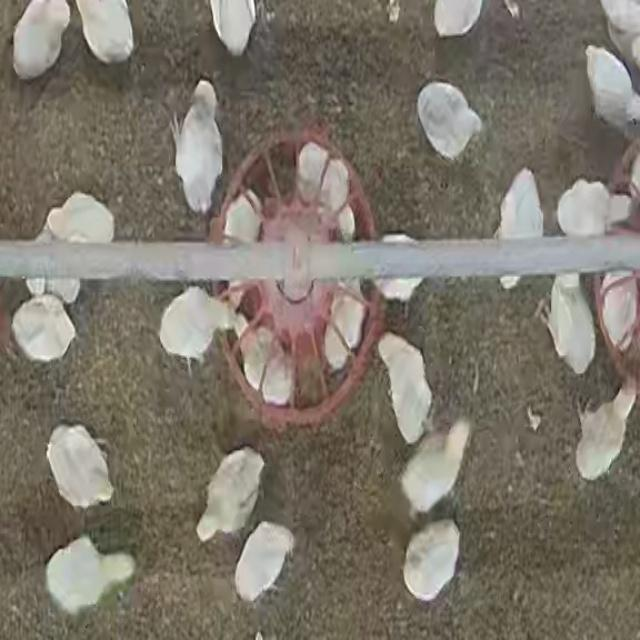chicken: (44, 534, 134, 618), (171, 77, 223, 210), (401, 415, 470, 514), (197, 446, 265, 542), (575, 377, 637, 481), (378, 332, 433, 446), (495, 168, 545, 290), (46, 422, 114, 510), (160, 281, 236, 359), (584, 43, 640, 140), (542, 277, 596, 375), (418, 82, 482, 159), (234, 522, 294, 602), (23, 230, 84, 308), (402, 519, 460, 600), (11, 293, 77, 364), (12, 1, 69, 80), (239, 321, 290, 407), (72, 1, 136, 67), (44, 190, 116, 246), (555, 178, 617, 238), (371, 231, 423, 301), (324, 288, 366, 370), (598, 274, 638, 356), (207, 1, 260, 58), (221, 191, 264, 247), (296, 142, 332, 208), (317, 157, 351, 223)
